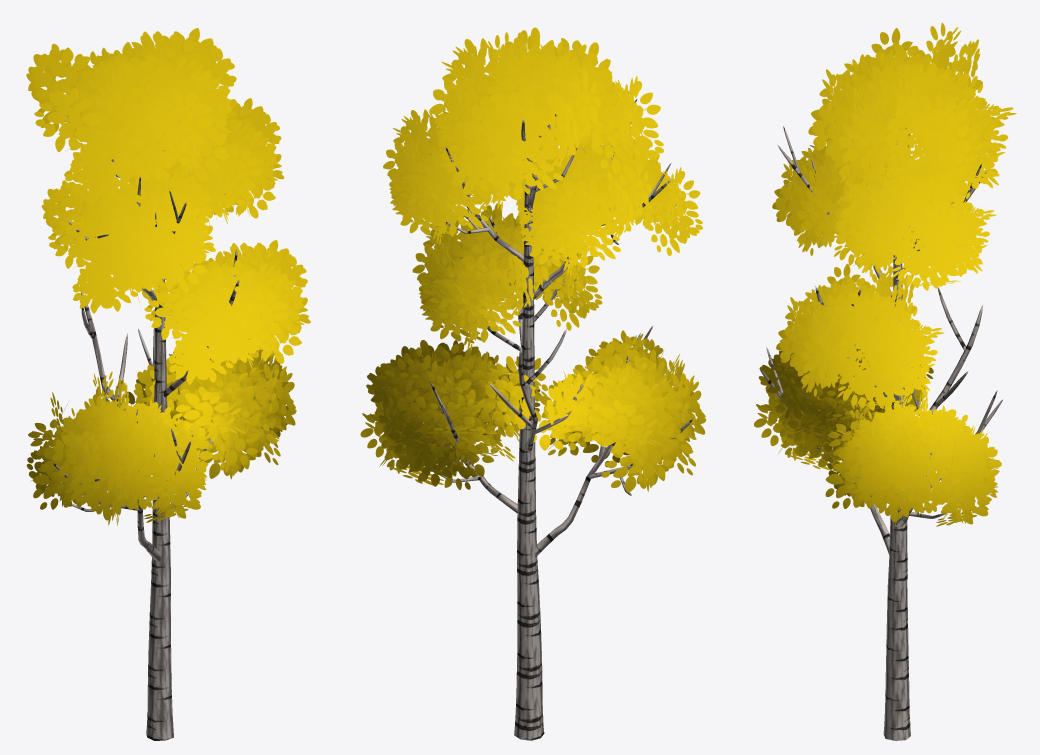
The model's file is birch_tree_2.glb.
3 views of the same model, side by side, from view 1: azimuth 30°, elevation 25°; view 2: azimuth 150°, elevation 25°; view 3: azimuth 270°, elevation 25° (orthographic). The views are drawn at different scales.
Visible parts, largest first — view 1: BirchTree_2; view 2: BirchTree_2; view 3: BirchTree_2.
Boxes of the visible parts, x1=… form: BirchTree_2: x1=26, y1=28, x2=310, y2=740; BirchTree_2: x1=360, y1=27, x2=706, y2=740; BirchTree_2: x1=754, y1=22, x2=1016, y2=740.
Size of the model in its own units: 3.35 by 7.57 by 2.81.
2 materials, 2 textured.
